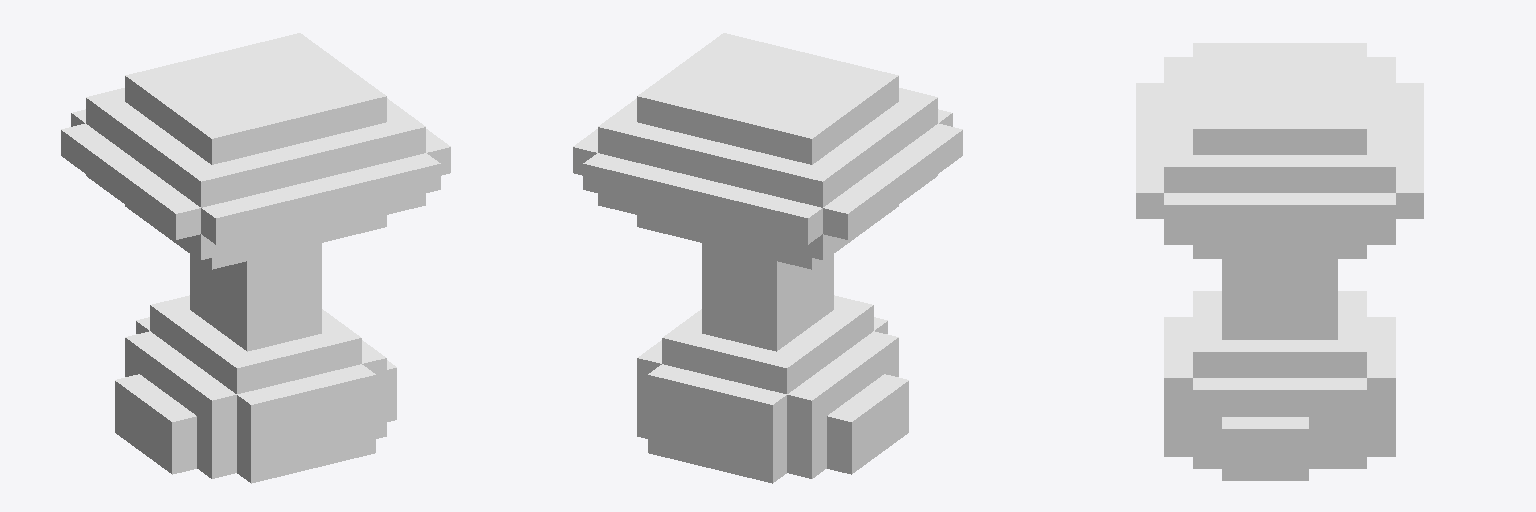
Rendered from magic_tower.obj.
3 views of the same model, side by side, from view 1: azimuth 30°, elevation 25°; view 2: azimuth 150°, elevation 25°; view 3: azimuth 270°, elevation 25° (orthographic).
Visible parts, largest first — view 1: object 1; view 2: object 1; view 3: object 1.
Boxes of the visible parts, x1,y1,x2,y2 form: object 1: [61, 33, 450, 483]; object 1: [573, 33, 962, 483]; object 1: [1136, 43, 1423, 480].
Size of the model in its own units: 1.1 by 1.3 by 1.